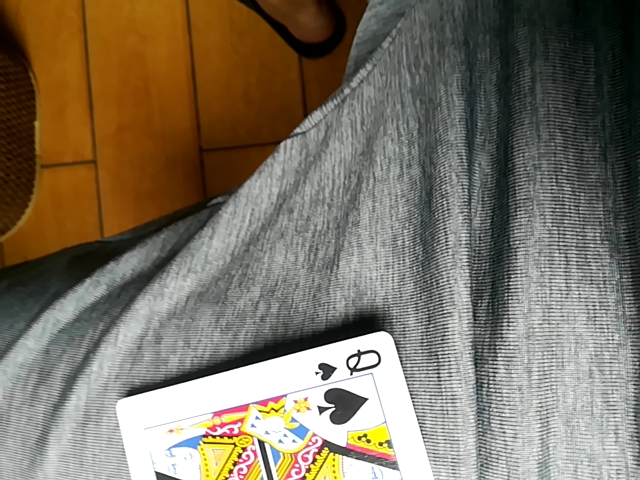ht q: (114, 332, 441, 480)
